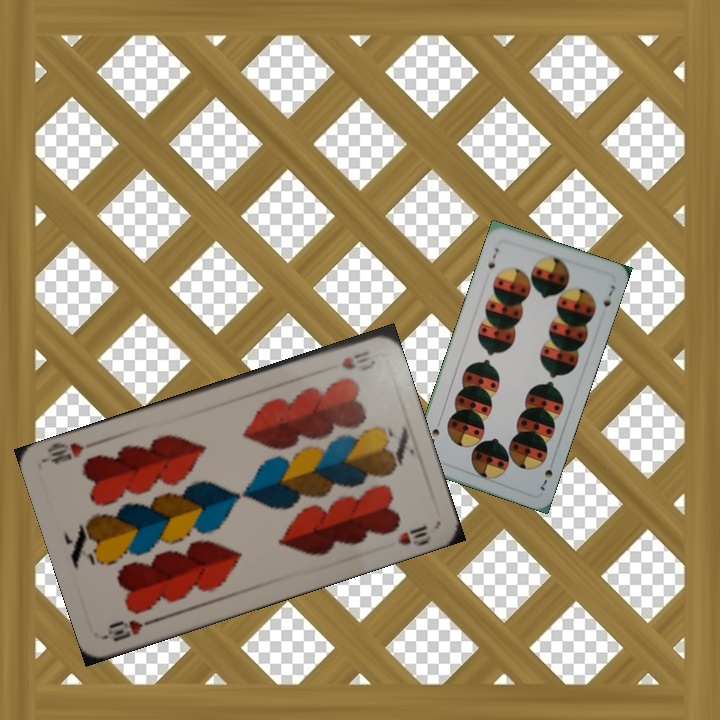H10: (102, 614, 159, 645), (337, 346, 373, 373)
S7: (536, 456, 557, 493), (484, 244, 501, 272)
